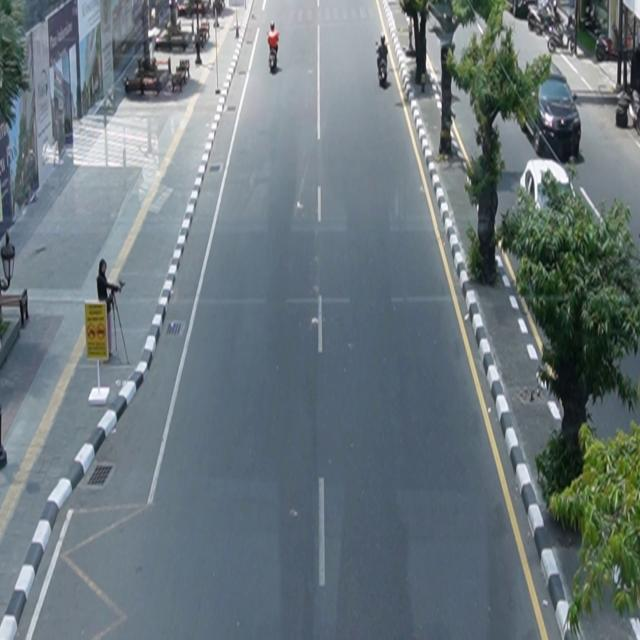car: (521, 73, 582, 162)
